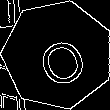O_NW: (27, 23, 88, 87)
